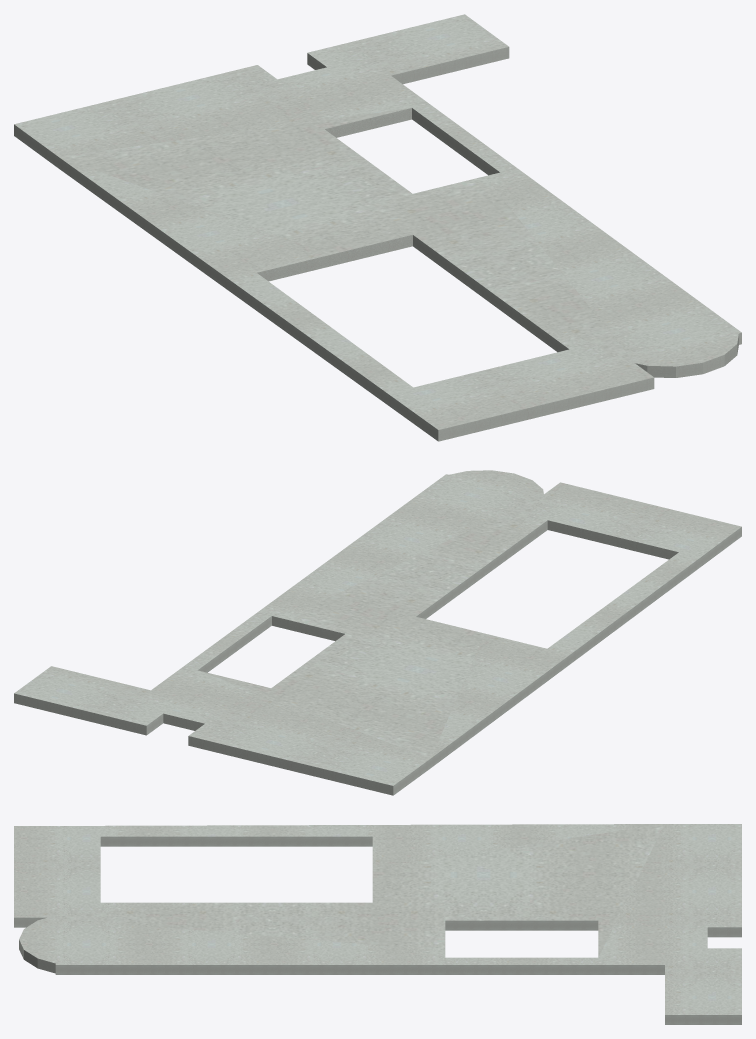
The model's file is plafond_f2.obj.
The picture shows the model from 3 angles, top to bottom: view 1: azimuth 30°, elevation 25°; view 2: azimuth 150°, elevation 25°; view 3: azimuth 270°, elevation 25°; orthographic projection. The views are drawn at different scales.
Visible parts, largest first — view 1: plafond_f2_Sol__Cube.002; view 2: plafond_f2_Sol__Cube.002; view 3: plafond_f2_Sol__Cube.002.
Boxes of the visible parts, x1,y1,x2,y2 form: plafond_f2_Sol__Cube.002: [14, 14, 741, 441]; plafond_f2_Sol__Cube.002: [14, 470, 741, 795]; plafond_f2_Sol__Cube.002: [14, 824, 741, 1024].
Size of the model in its own units: 12.63 by 0.31 by 20.36.
